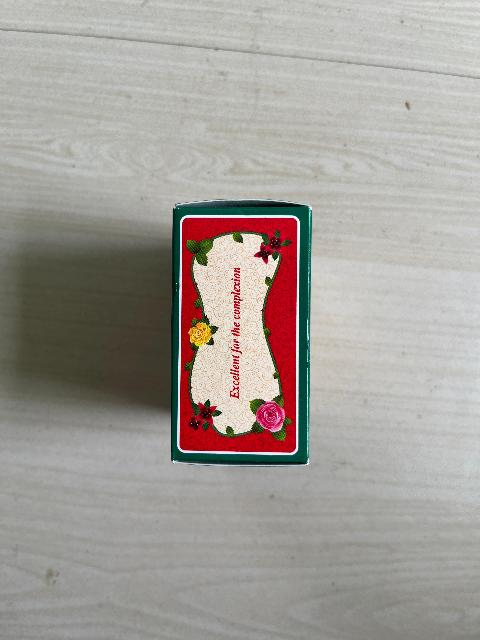mysore sandal soap: (170, 205, 311, 462)
